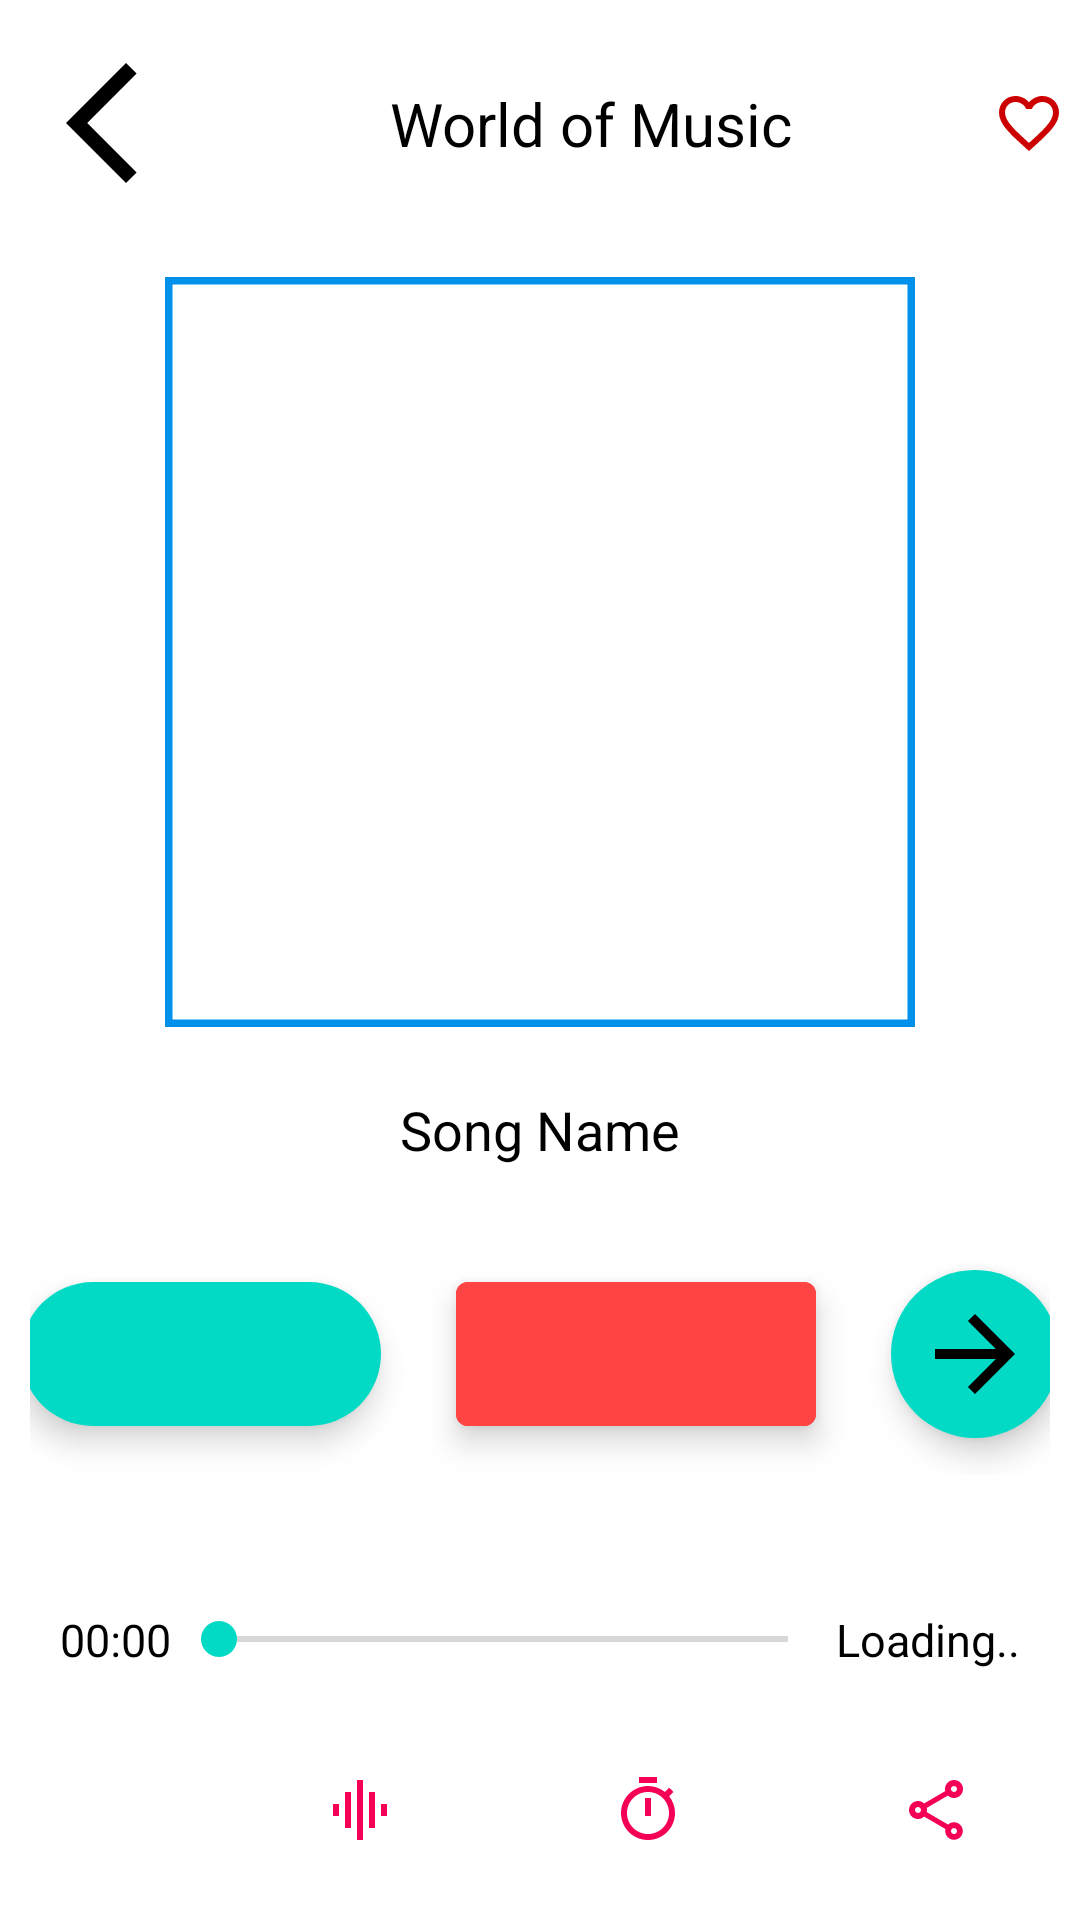

Icon bounding boxes for this 1080 x 1920 phone screenshot, format BBox(x1, y1, x2, y2):
Back: BBox(66, 63, 137, 183)
Equalizer: BBox(333, 1780, 387, 1840)
Favourite: BBox(999, 96, 1059, 151)
next: BBox(891, 1270, 1050, 1438)
Share: BBox(909, 1780, 963, 1840)
Timer: BBox(621, 1777, 675, 1840)
